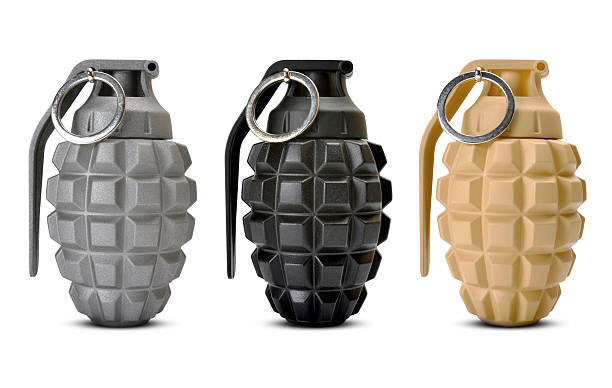e1: (221, 51, 391, 329), (24, 57, 198, 326), (416, 58, 586, 326)
